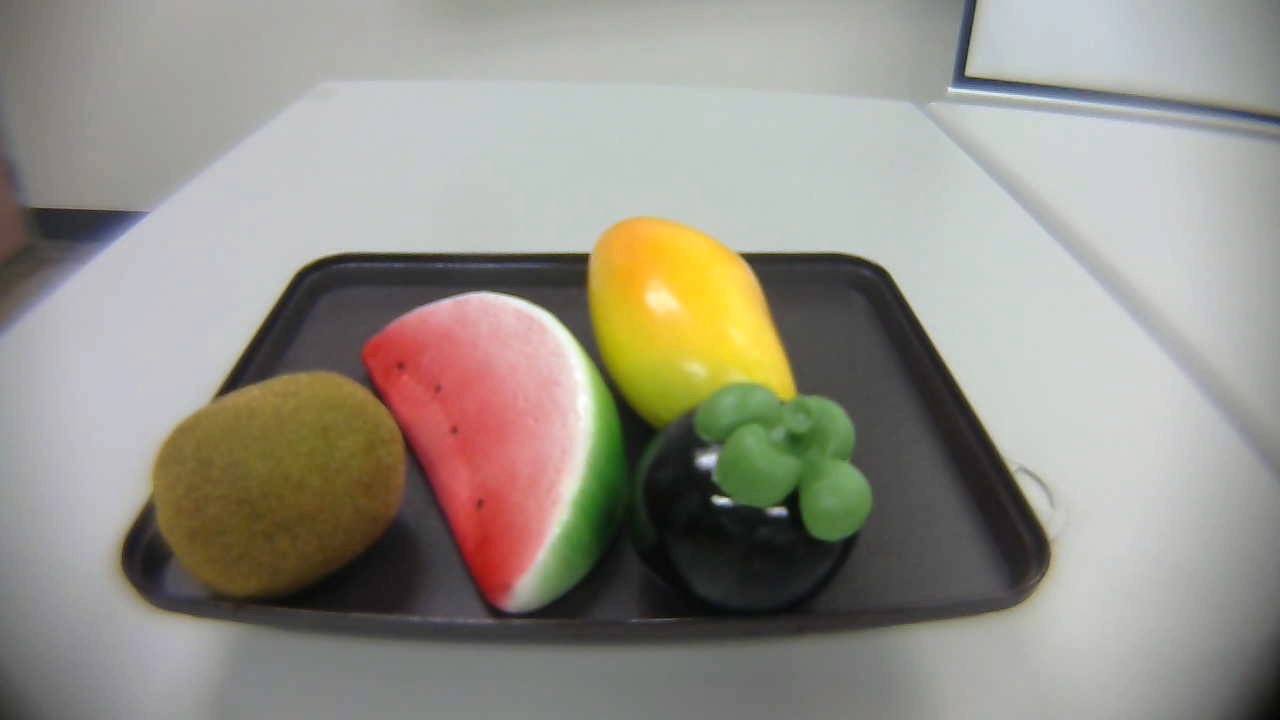kiwi fruit: (147, 370, 410, 604)
mangosteen: (622, 386, 881, 615)
water melon: (360, 289, 630, 623)
yellow mango: (568, 213, 835, 439)
